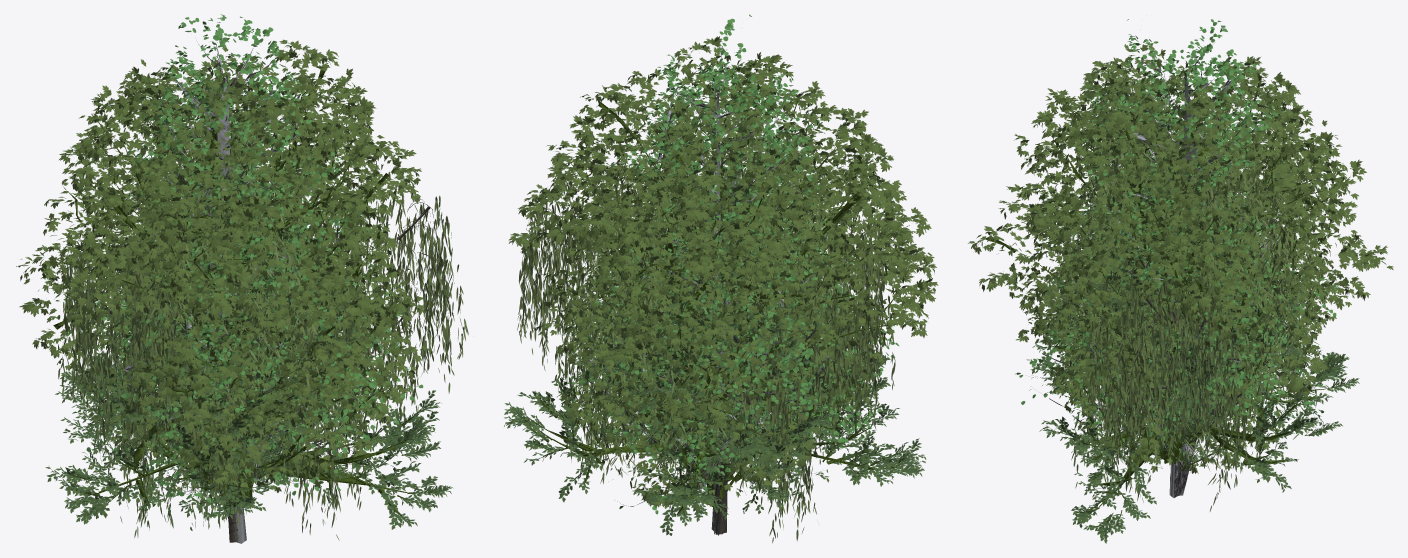
File: vegetation_02.glb
The picture shows the model from 3 angles, left to right: view 1: azimuth 30°, elevation 25°; view 2: azimuth 150°, elevation 25°; view 3: azimuth 270°, elevation 25°; orthographic projection. The views are drawn at different scales.
Visible parts, largest first — view 1: prototype_021, prototype_022, prototype_023, prototype_016, prototype_018, prototype_020, prototype_017; view 2: prototype_021, prototype_022, prototype_023, prototype_016, prototype_018, prototype_020, prototype_017, prototype_019; view 3: prototype_021, prototype_022, prototype_023, prototype_016, prototype_018, prototype_020, prototype_017.
Boxes of the visible parts, x1=… form: prototype_021: x1=16, y1=39, x2=433, y2=505; prototype_022: x1=75, y1=69, x2=425, y2=505; prototype_023: x1=58, y1=116, x2=468, y2=542; prototype_016: x1=45, y1=165, x2=453, y2=529; prototype_018: x1=106, y1=14, x2=380, y2=518; prototype_020: x1=56, y1=162, x2=423, y2=543; prototype_017: x1=165, y1=337, x2=303, y2=497; prototype_021: x1=508, y1=36, x2=938, y2=511; prototype_022: x1=570, y1=91, x2=874, y2=502; prototype_023: x1=517, y1=132, x2=895, y2=543; prototype_016: x1=504, y1=176, x2=926, y2=535; prototype_018: x1=590, y1=14, x2=854, y2=534; prototype_020: x1=557, y1=169, x2=898, y2=535; prototype_017: x1=640, y1=348, x2=780, y2=534; prototype_019: x1=668, y1=385, x2=776, y2=484; prototype_021: x1=968, y1=43, x2=1393, y2=473; prototype_022: x1=1015, y1=60, x2=1330, y2=456; prototype_023: x1=1054, y1=114, x2=1332, y2=511; prototype_016: x1=1026, y1=156, x2=1359, y2=543; prototype_018: x1=1042, y1=19, x2=1305, y2=495; prototype_020: x1=1015, y1=149, x2=1336, y2=497; prototype_017: x1=1124, y1=320, x2=1232, y2=470.
Bounding box in the file's own units: 18.8 × 22.49 × 18.25.
12 materials, 12 textured.
